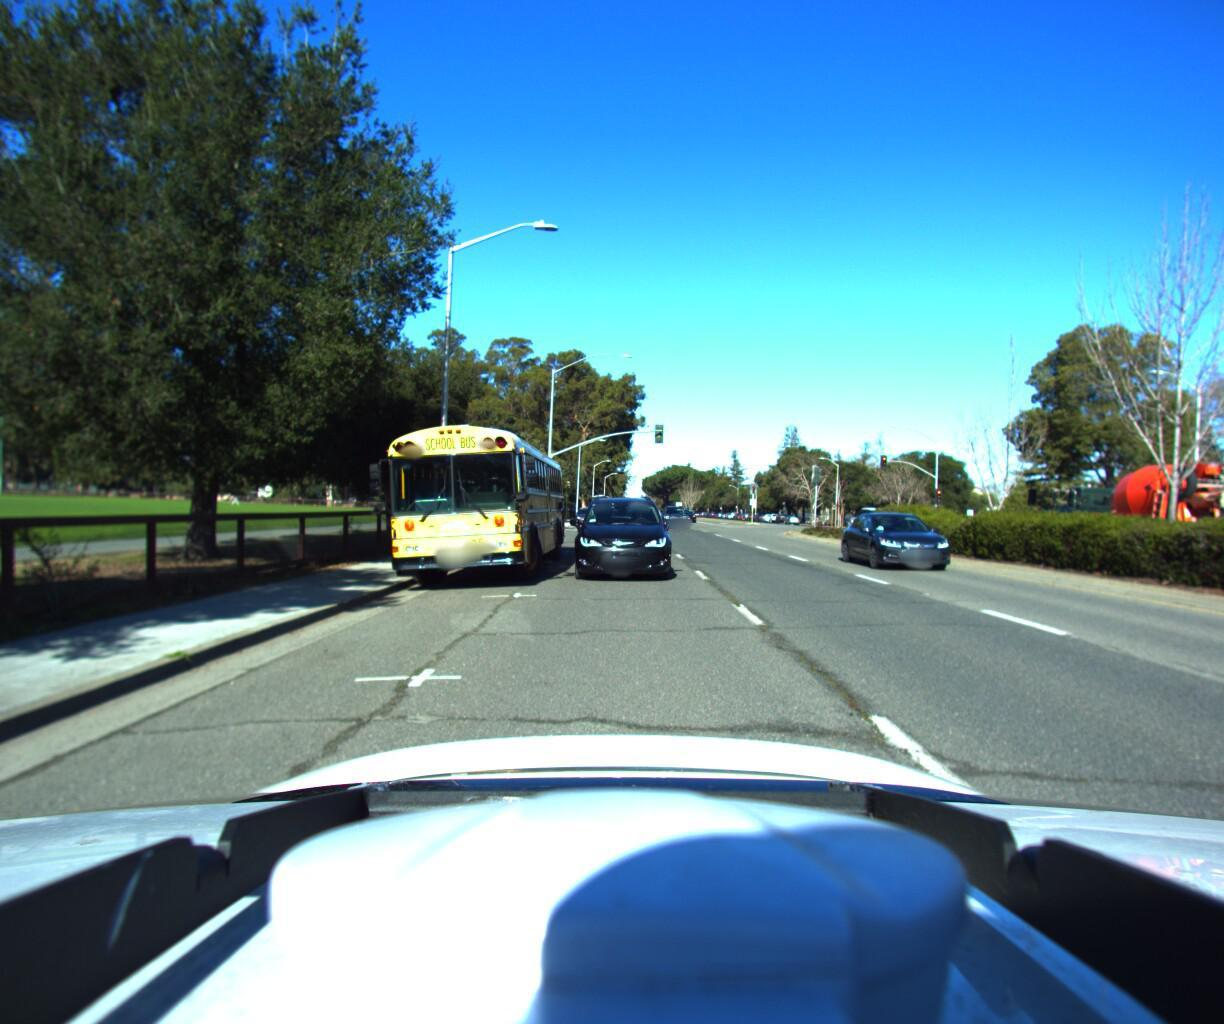bus: (369, 415, 571, 583)
car: (848, 511, 988, 579), (574, 489, 673, 584), (660, 501, 691, 529)
truck: (1023, 442, 1224, 562)
